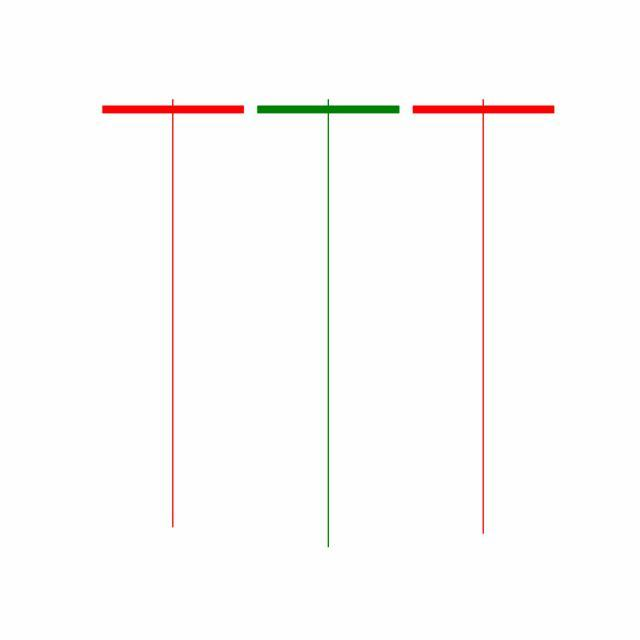Dragonfly Doji: (406, 95, 562, 540)
